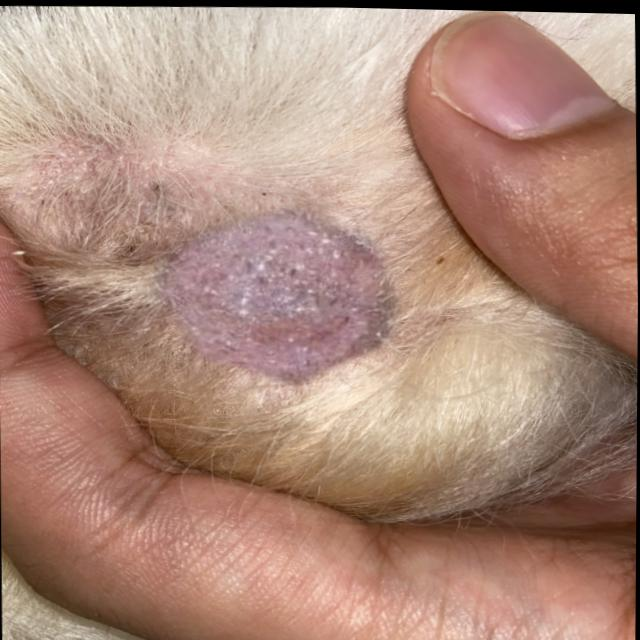ringworm: (157, 195, 405, 419)
